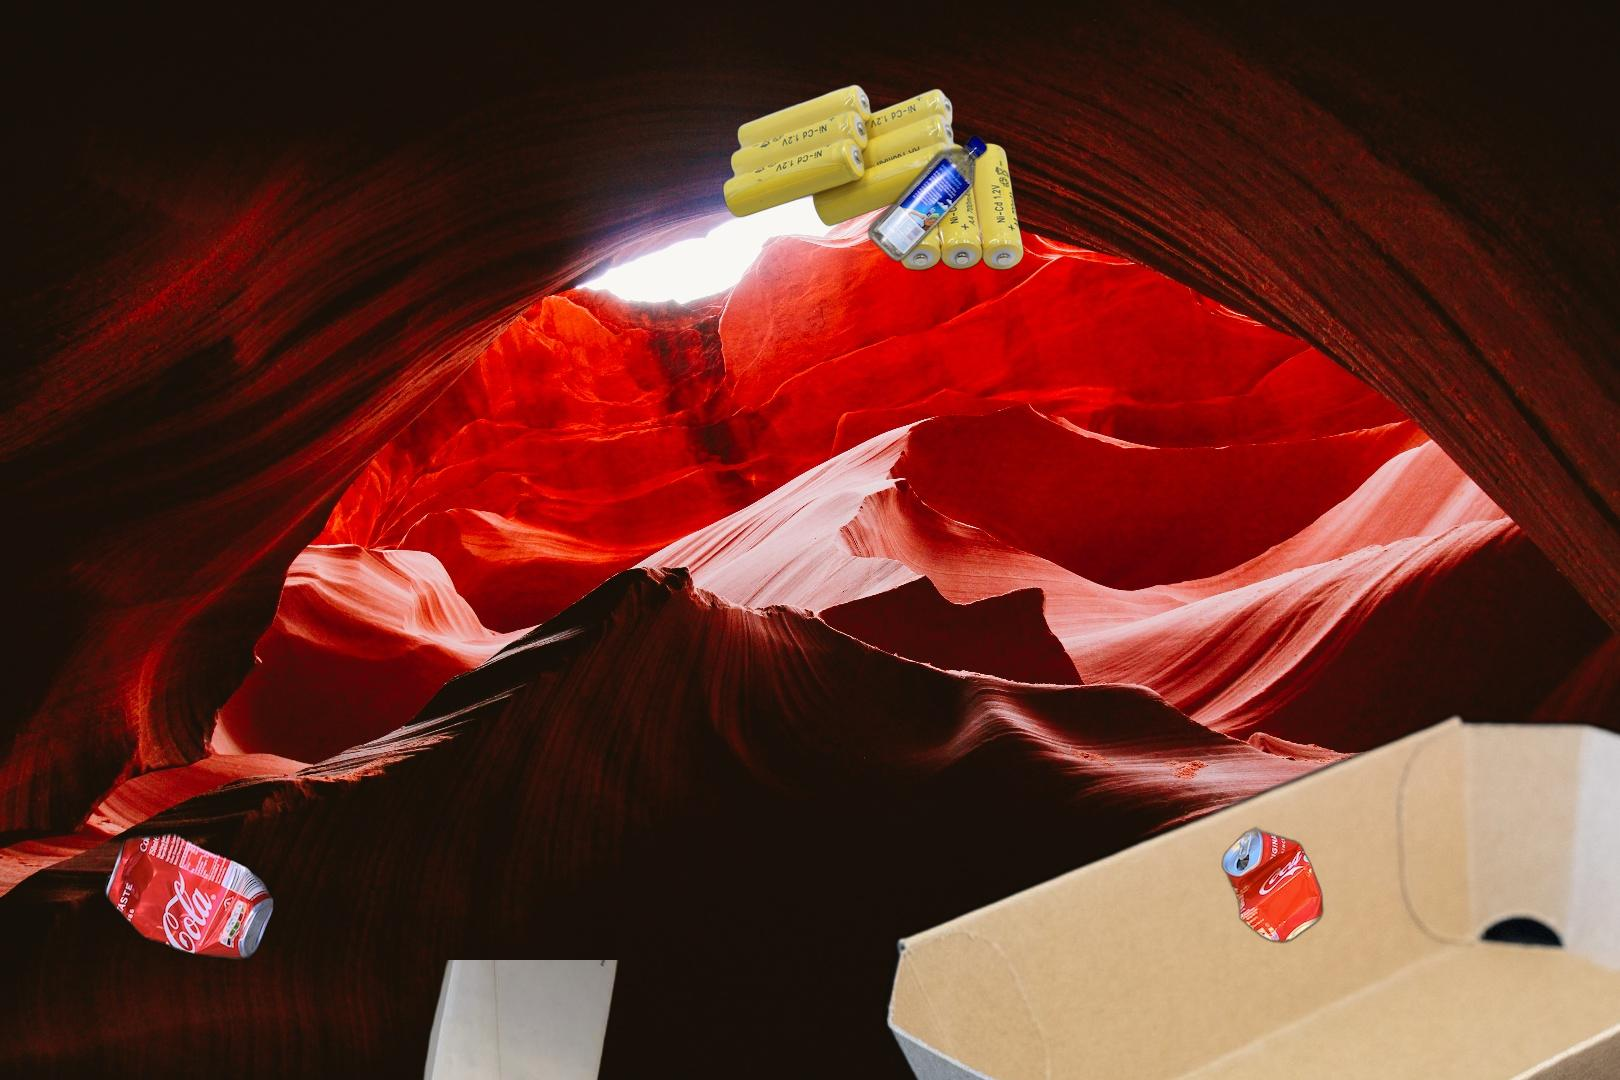battery: (720, 83, 1025, 272)
clothes: (346, 1047, 691, 1080)
metal-cans: (100, 827, 278, 965), (1217, 823, 1326, 949)
paper: (366, 959, 624, 1080)
plastic-bottles: (863, 129, 992, 268)
trashbox-cardboard: (873, 706, 1620, 1080)
